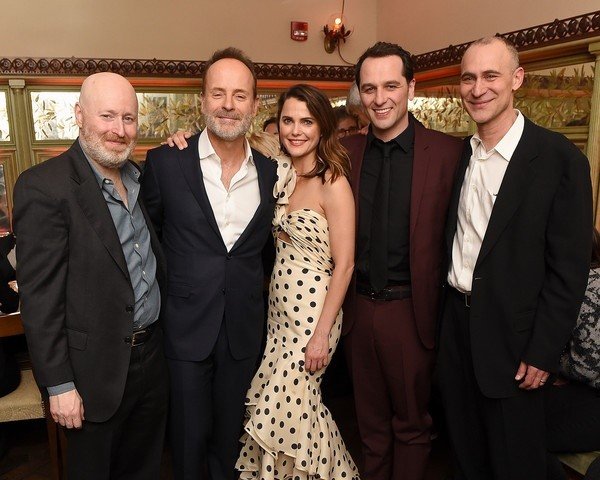face_no_mask: (73, 71, 138, 168), (356, 40, 418, 130), (457, 38, 524, 121), (202, 48, 259, 139), (278, 84, 334, 155)
